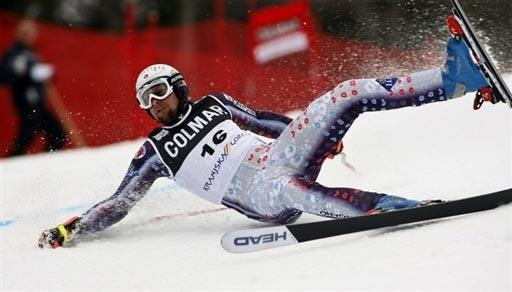falling: (40, 47, 512, 241)
